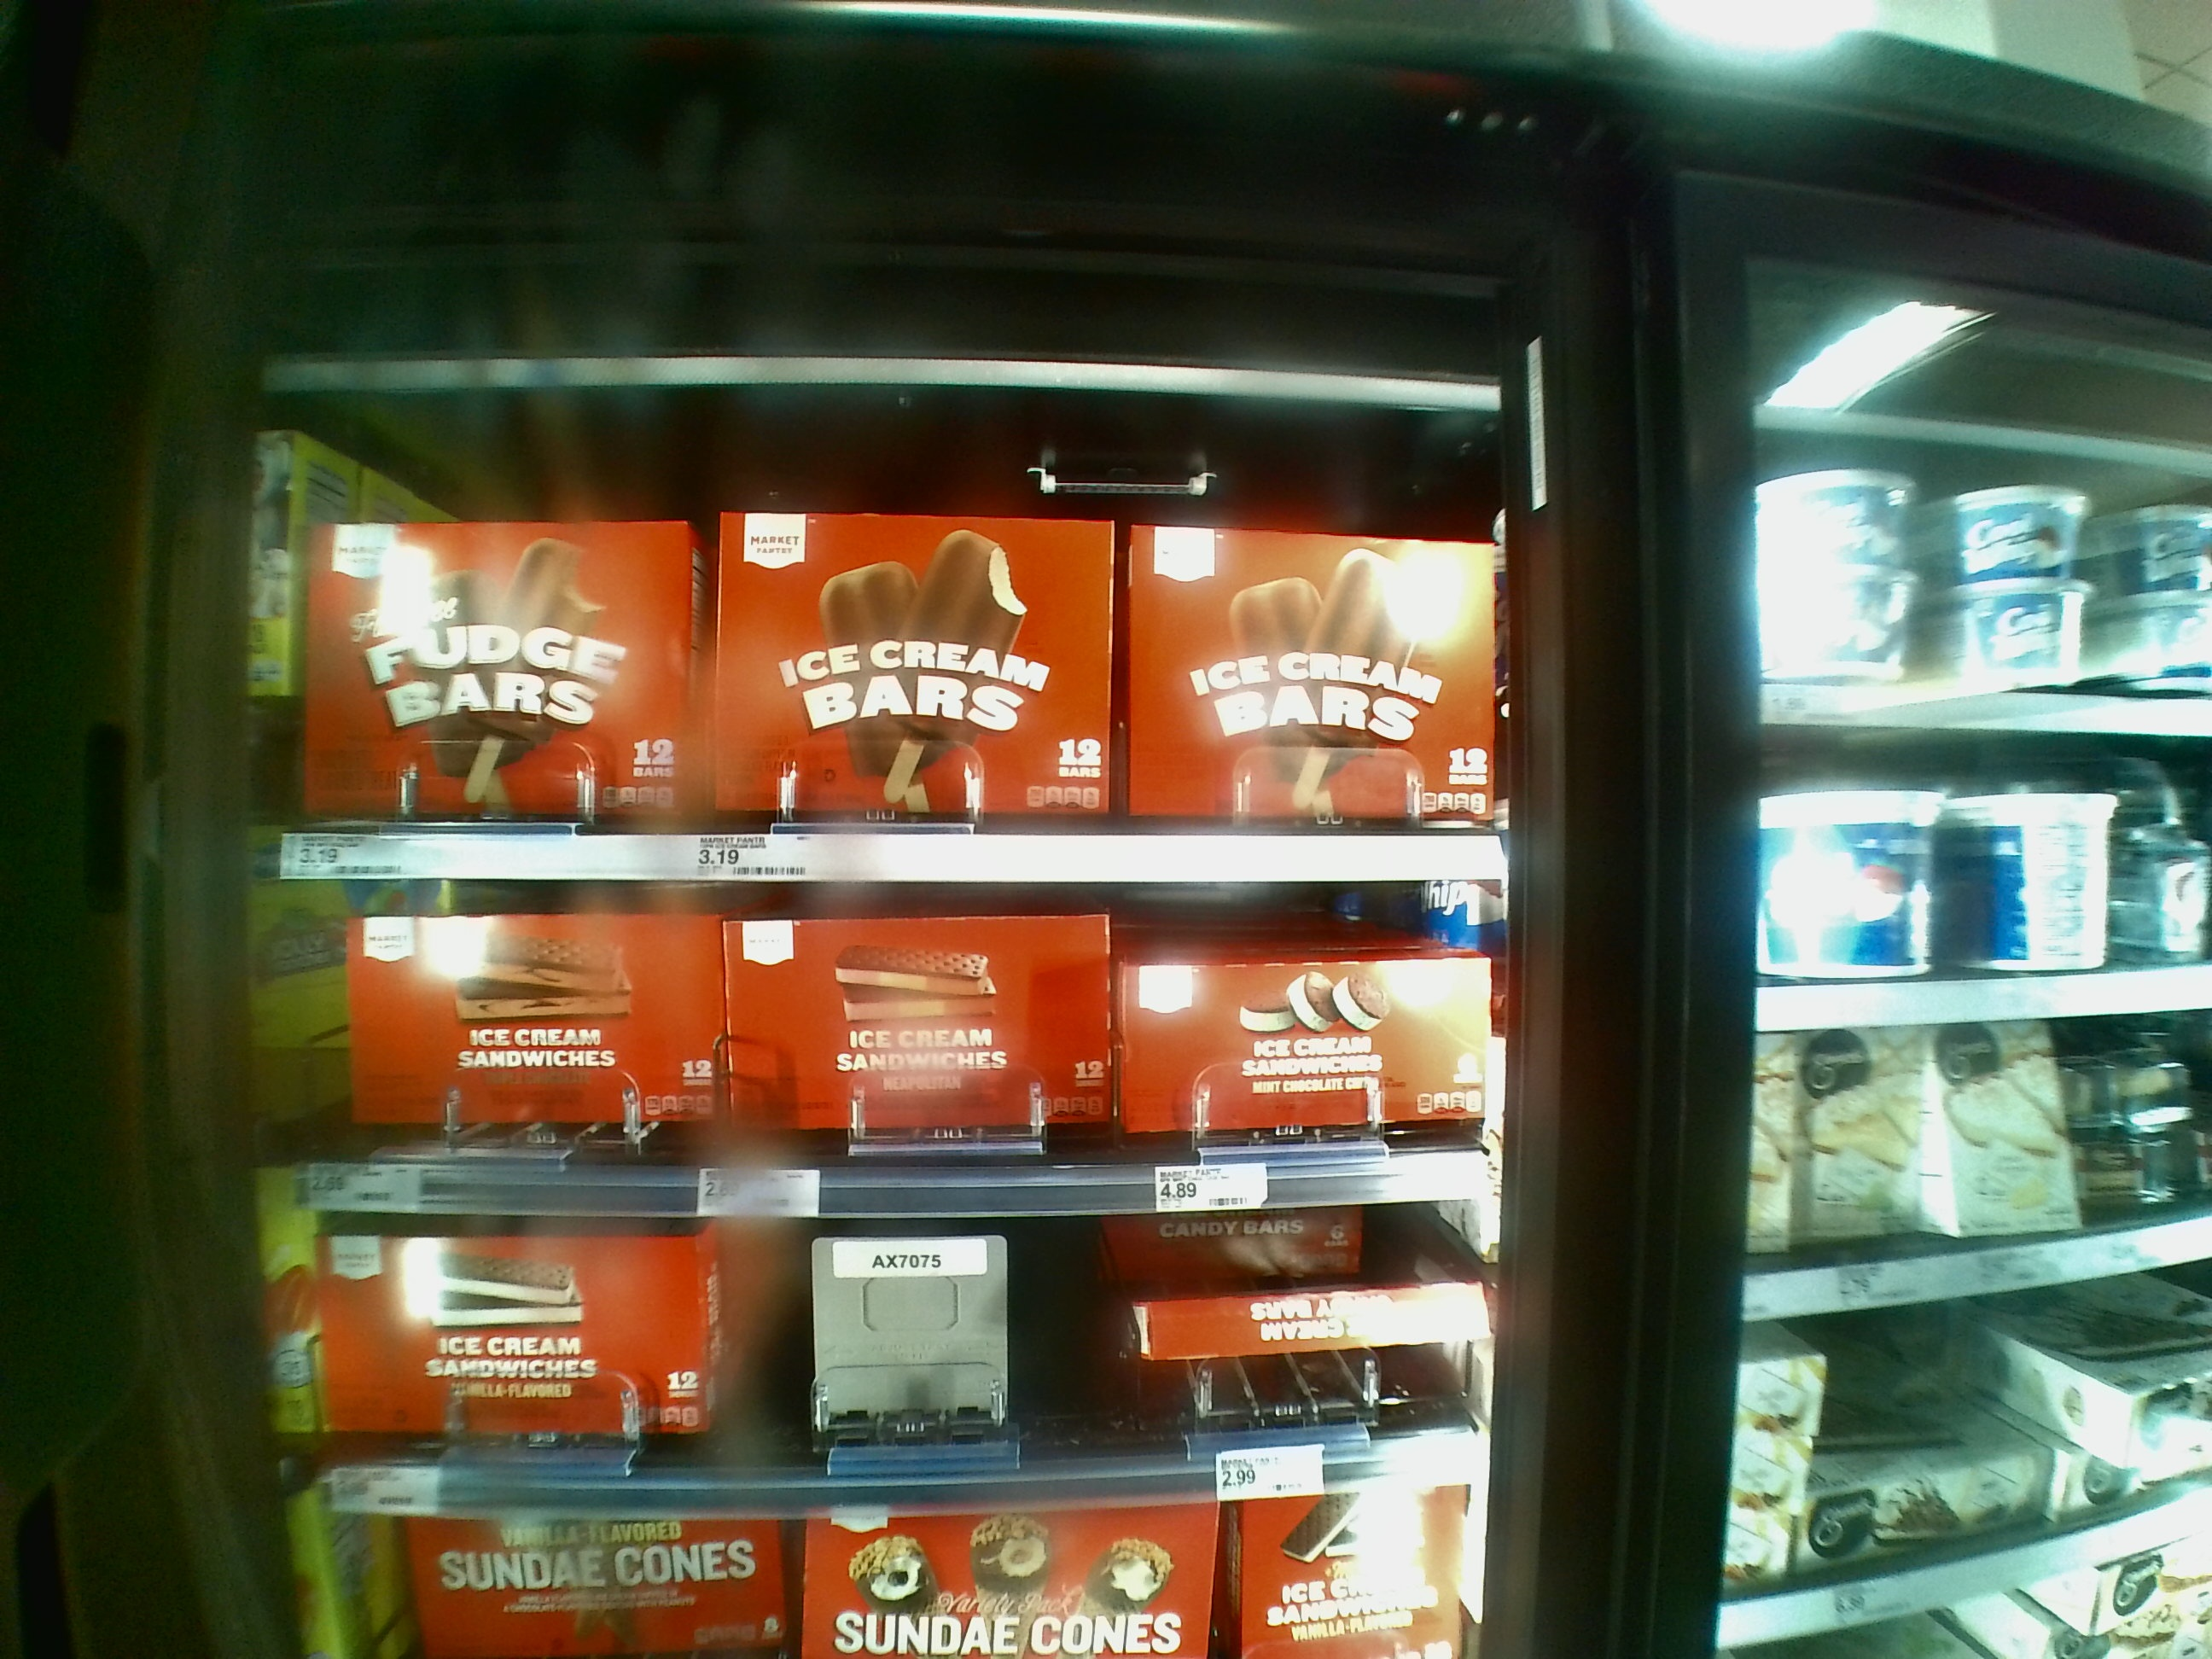shelf: (260, 392, 1494, 890), (280, 877, 1474, 1218), (298, 1208, 1482, 1521)
